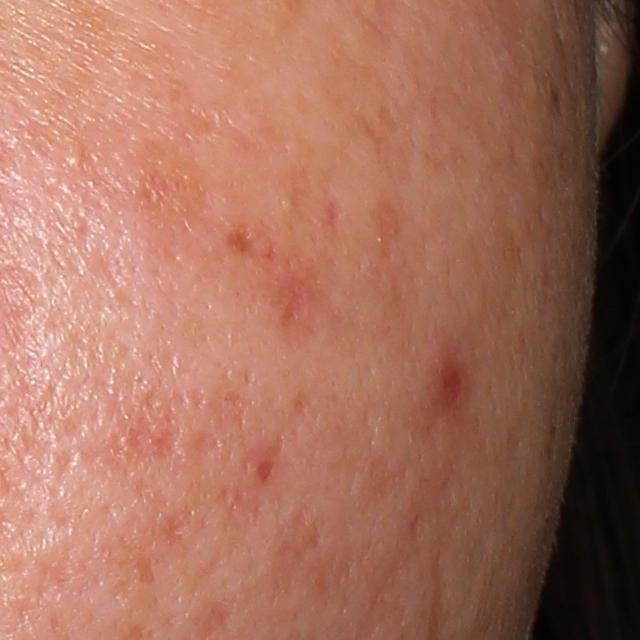comedo: (60, 150, 86, 169)
